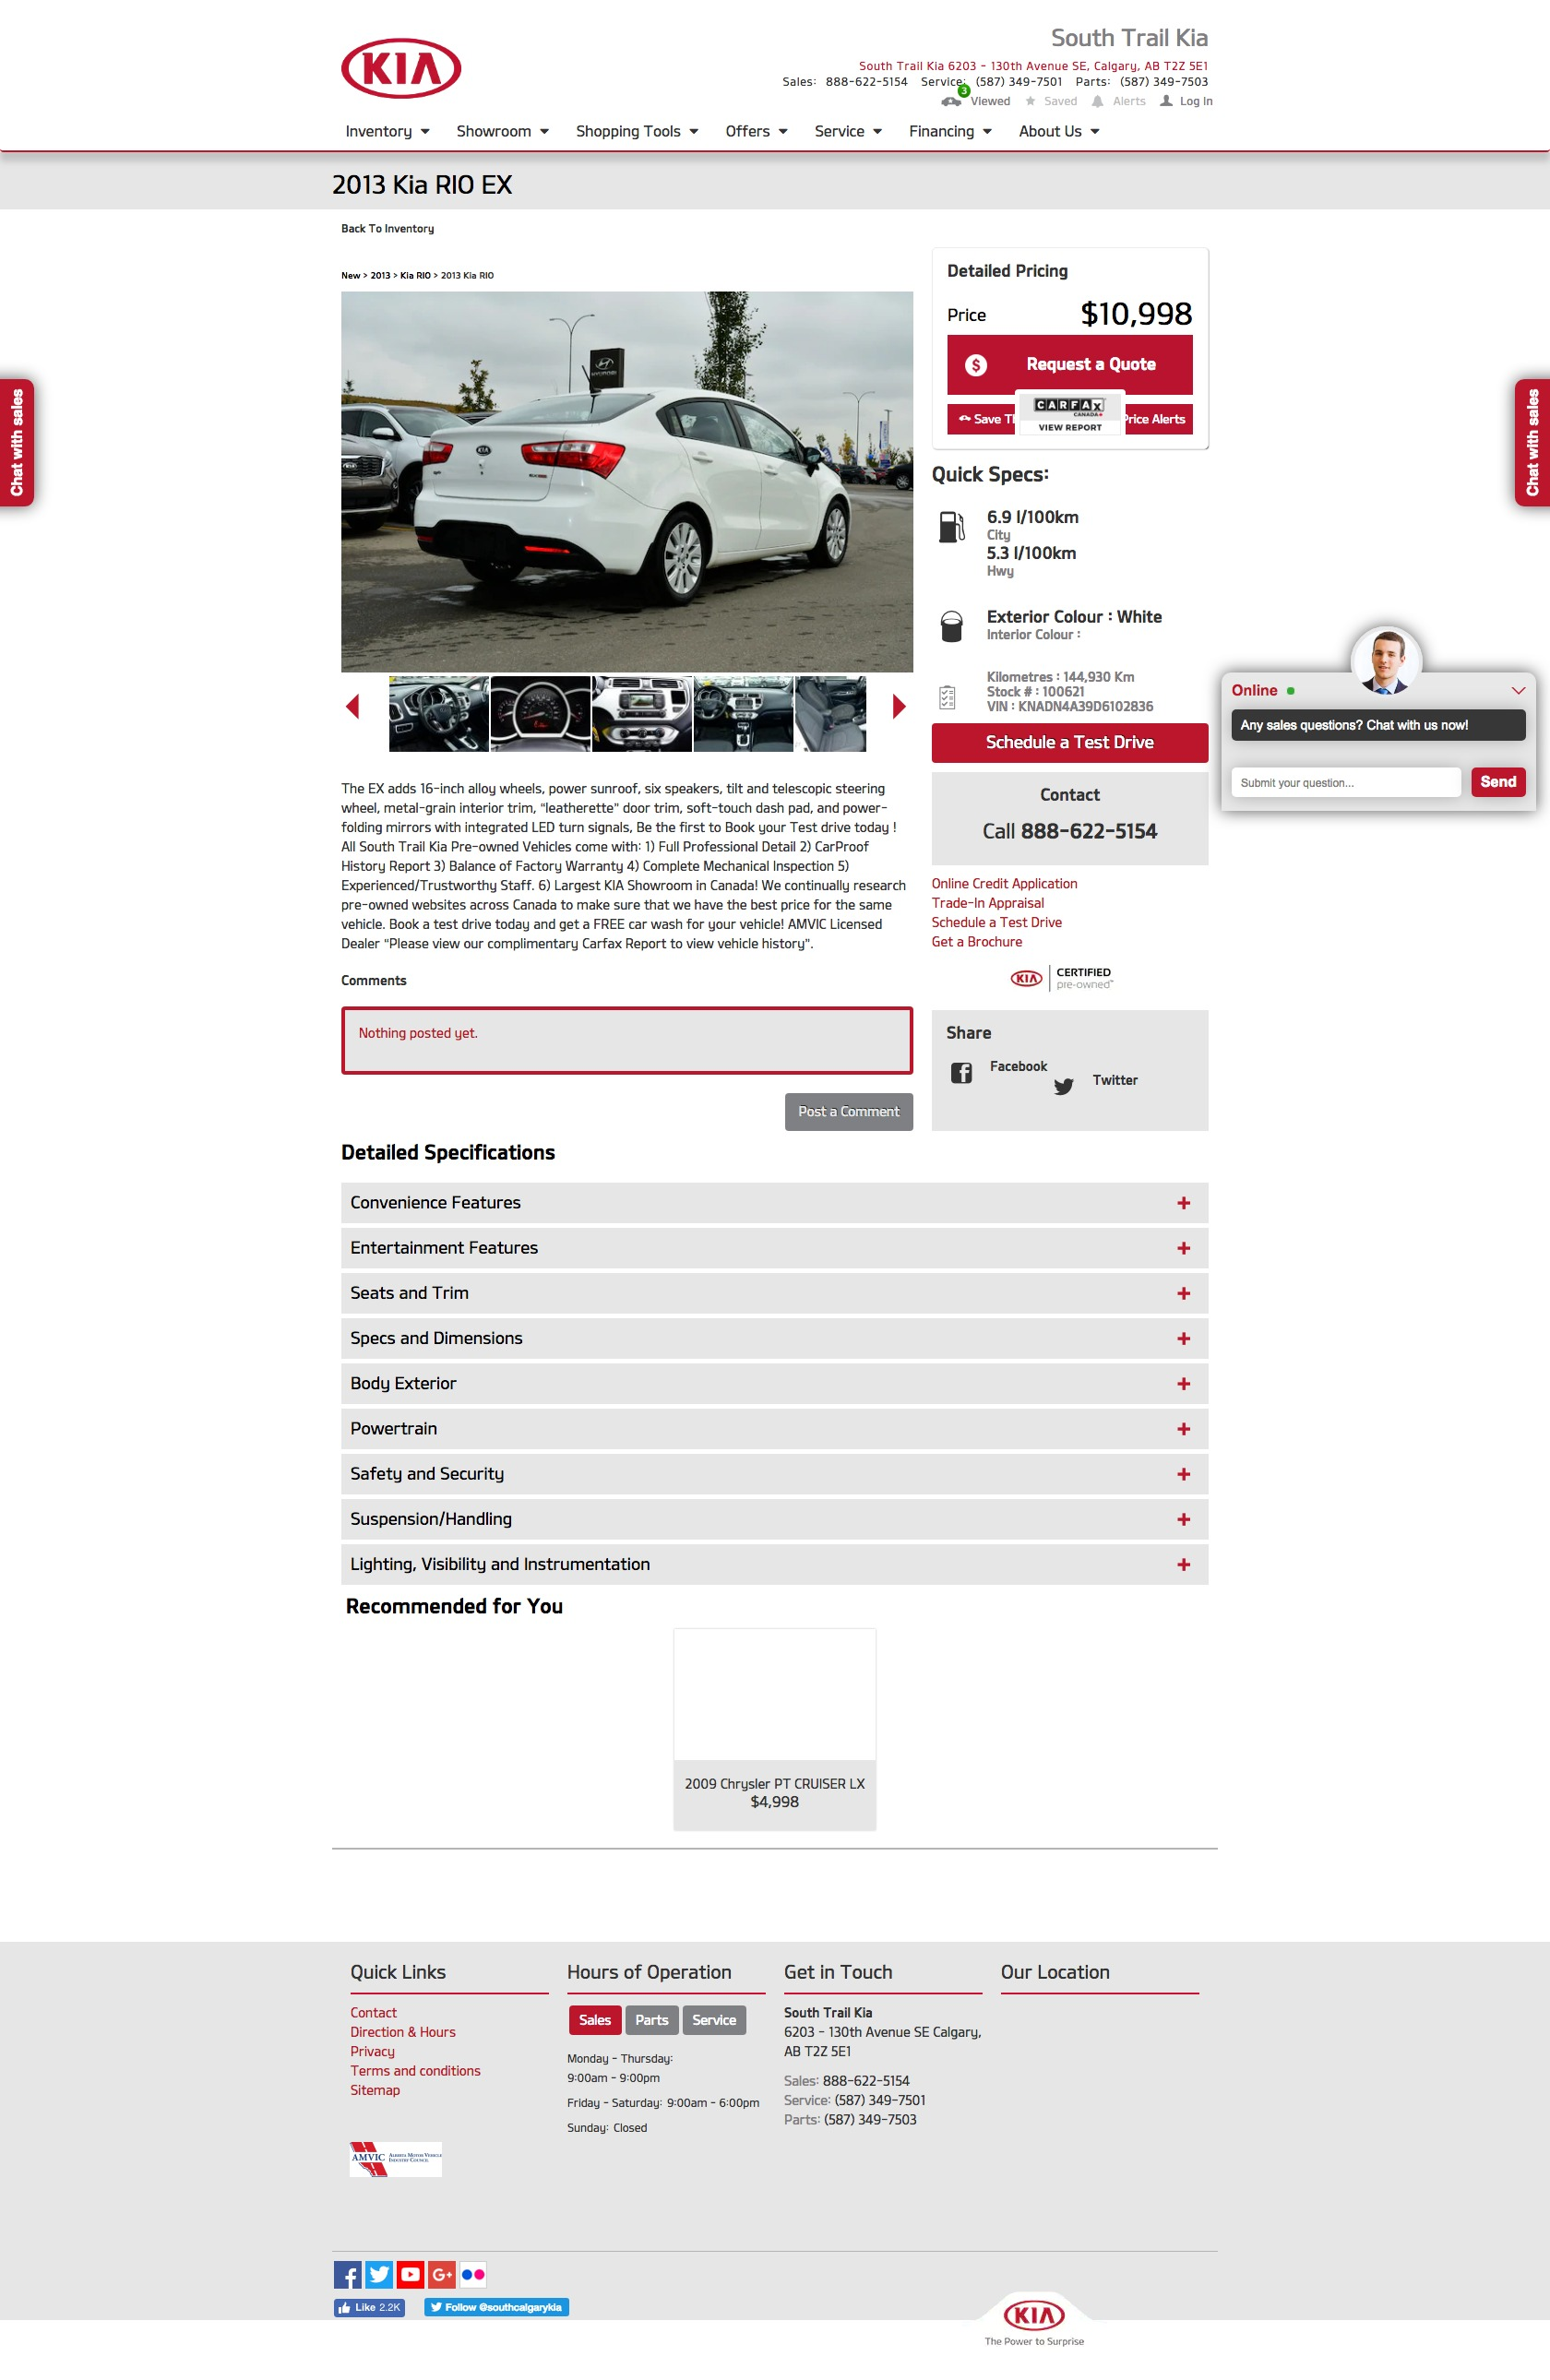car: (892, 694, 908, 720)
